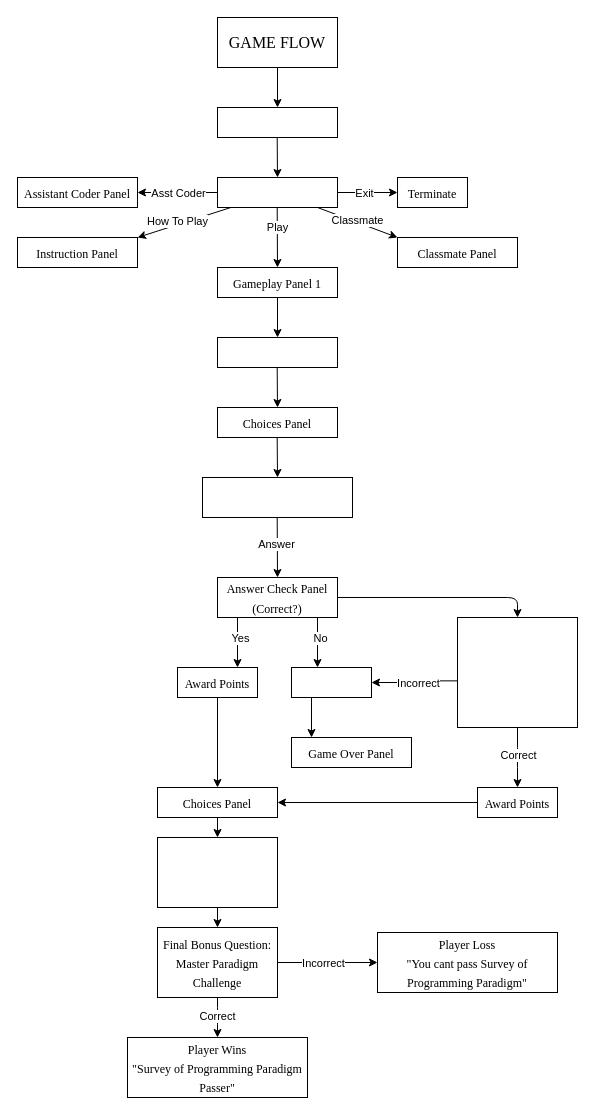
The diagram is 595 pixels wide and 1115 high, and some of its shapes have lost their labels. The centre of each missing label's shape, as x and y in pixels:
"Choose Debug Tools -Console Log -Ctrl + C -Refactor -Auto-Debug" belongs at (517,672).
"Deduct Points" belongs at (331,682).
"Gameplay Panel 2" belongs at (277,352).
"Main Menu" belongs at (277,192).
"More Questions Left? (Repeat until 10 main questions answered)" belongs at (217,872).
"Question Panel (Mutiple Choice A,B,C,D)" belongs at (277,497).
"Splash Screen" belongs at (277,122).
